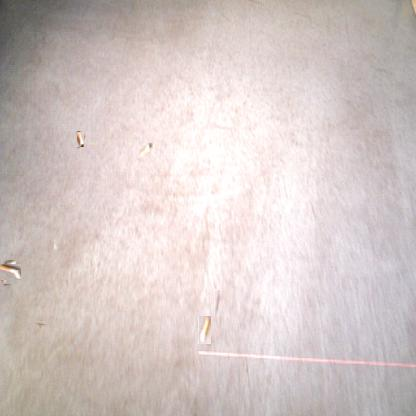dirty: (0, 261, 19, 282), (198, 316, 211, 344), (138, 142, 153, 158), (76, 131, 84, 147)
mark: (214, 289, 221, 316), (36, 318, 46, 328)
